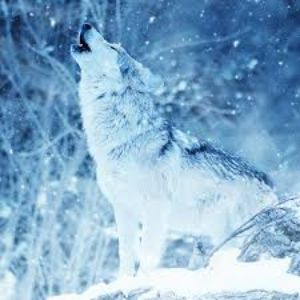wolf: (66, 15, 270, 290)
